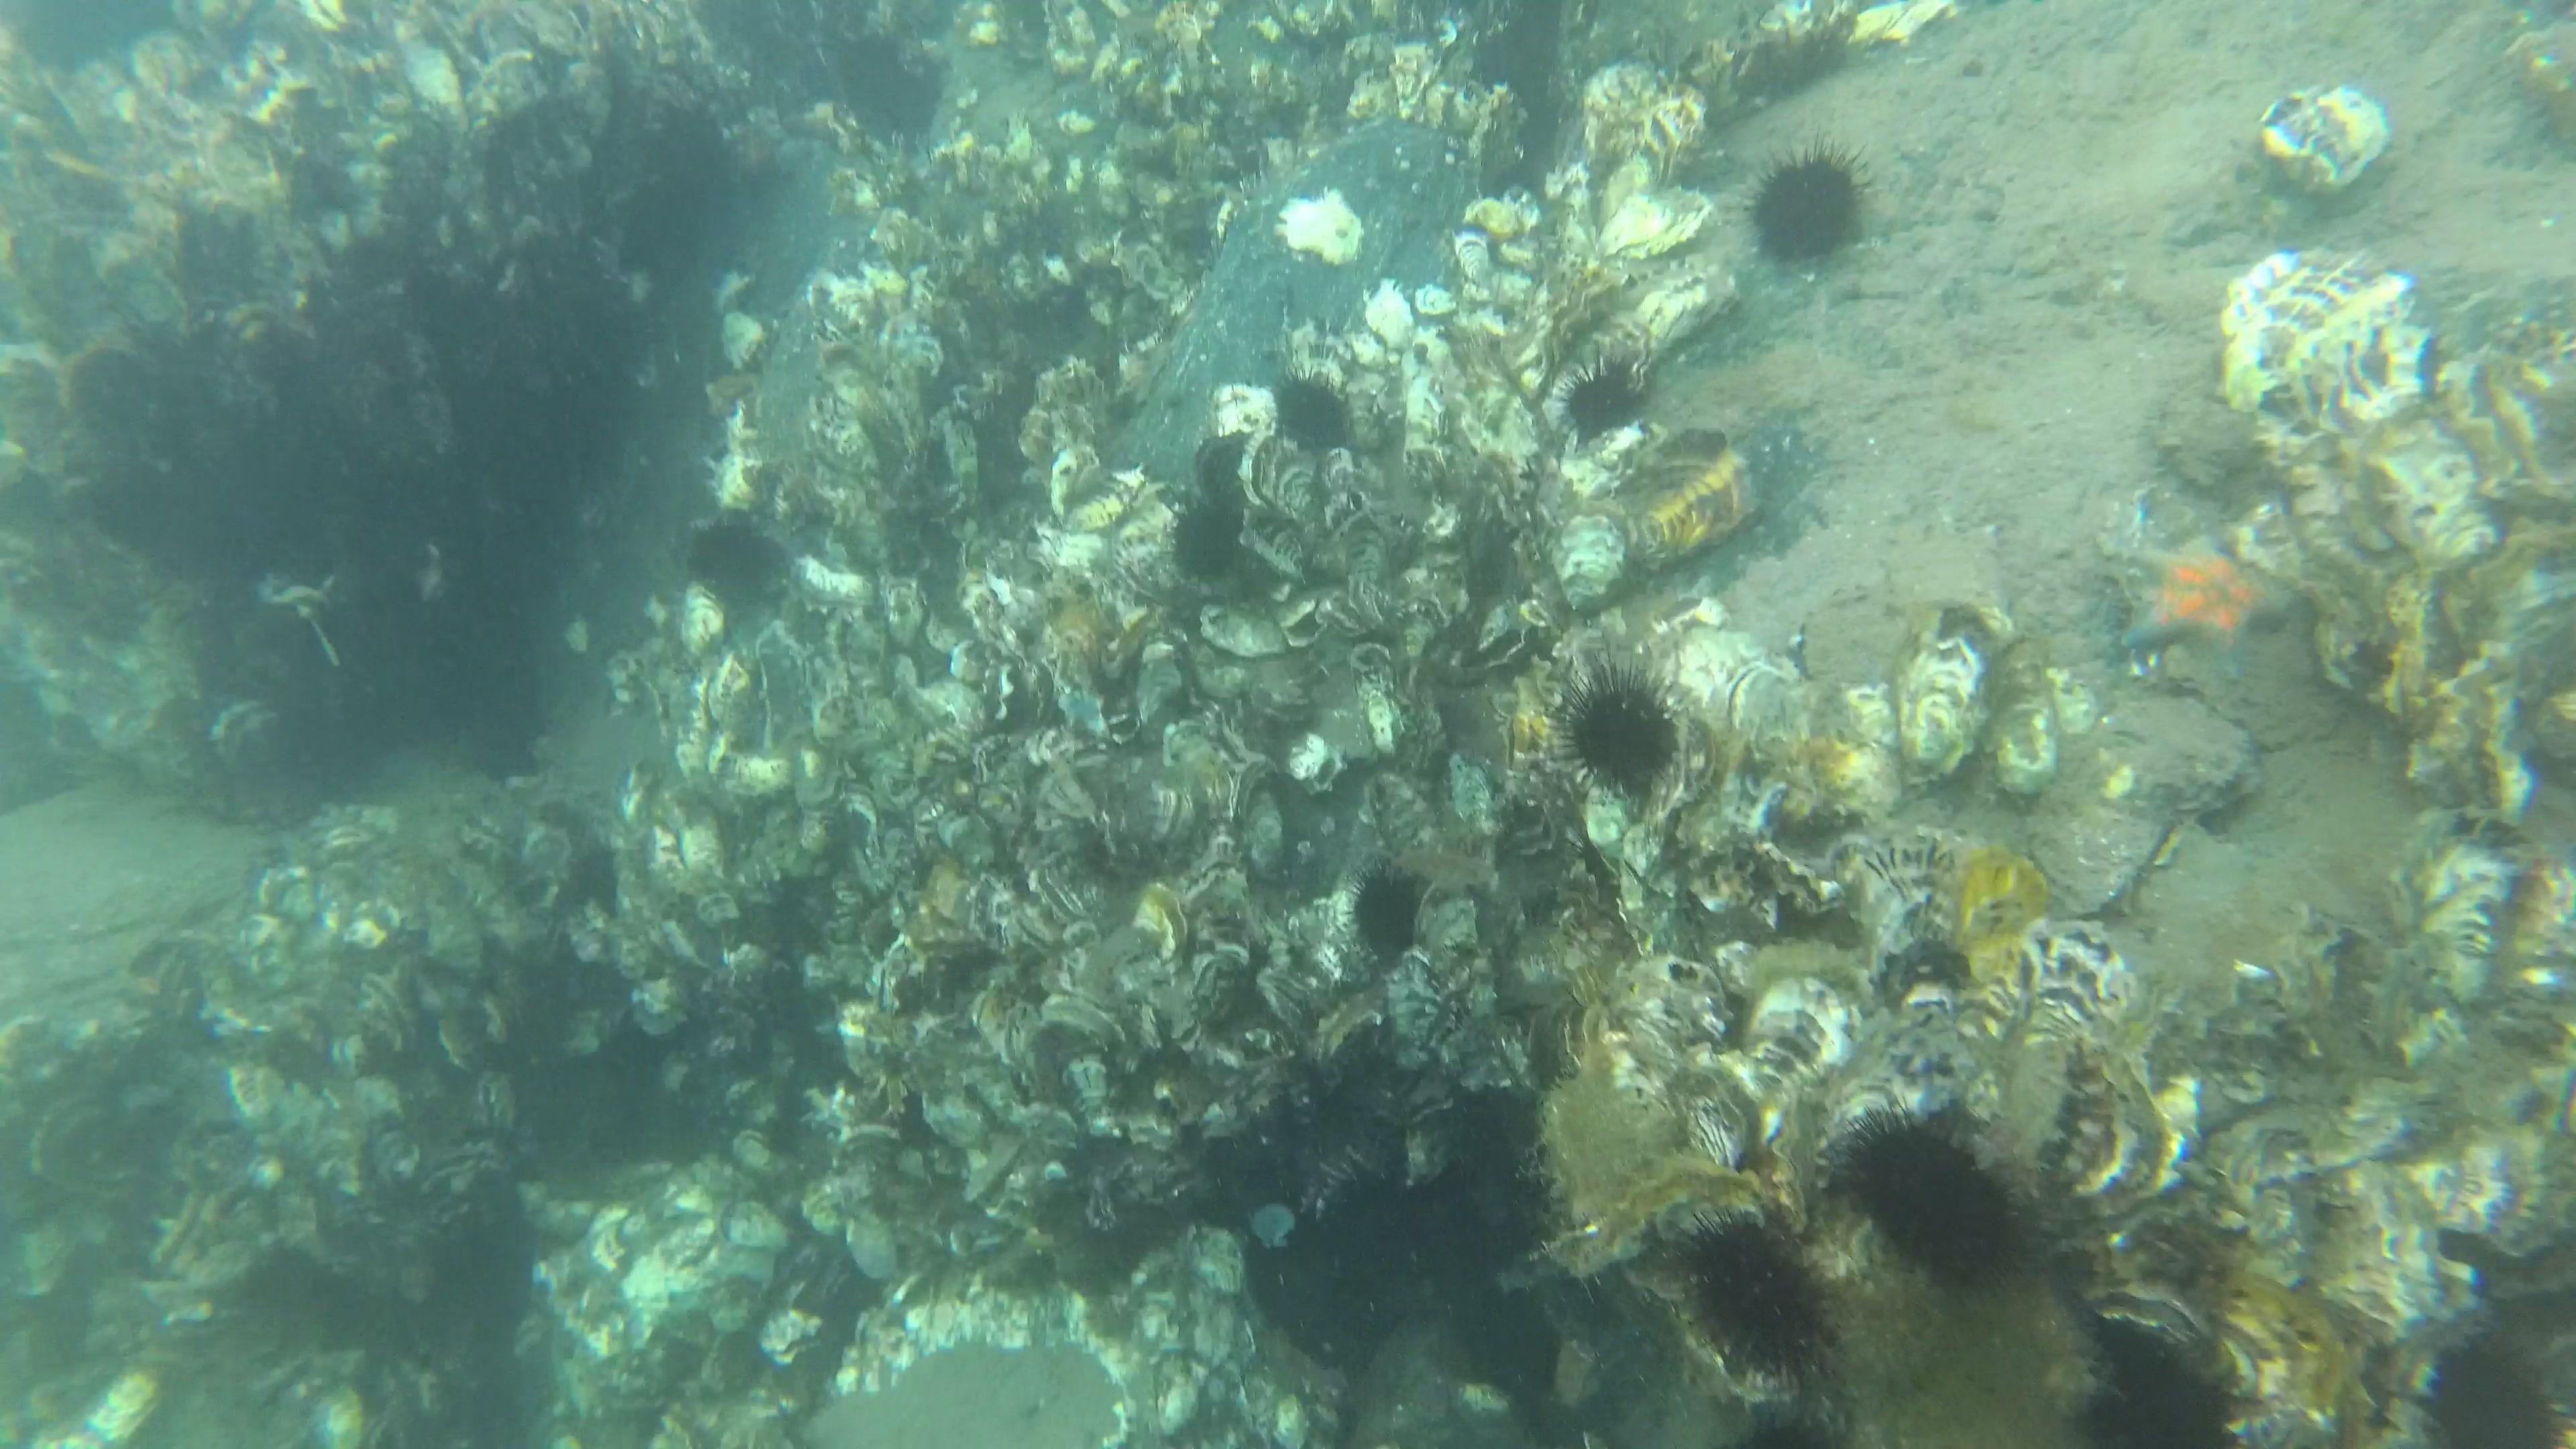echinus: (1819, 1100, 2020, 1299), (1663, 1205, 1847, 1392), (2406, 1313, 2576, 1449), (1552, 648, 1698, 805), (1730, 136, 1882, 274), (752, 350, 879, 465), (824, 19, 952, 133), (1341, 855, 1438, 970), (1548, 345, 1651, 446), (1261, 357, 1357, 465), (1157, 490, 1258, 591)
starfish: (2109, 515, 2307, 686)
